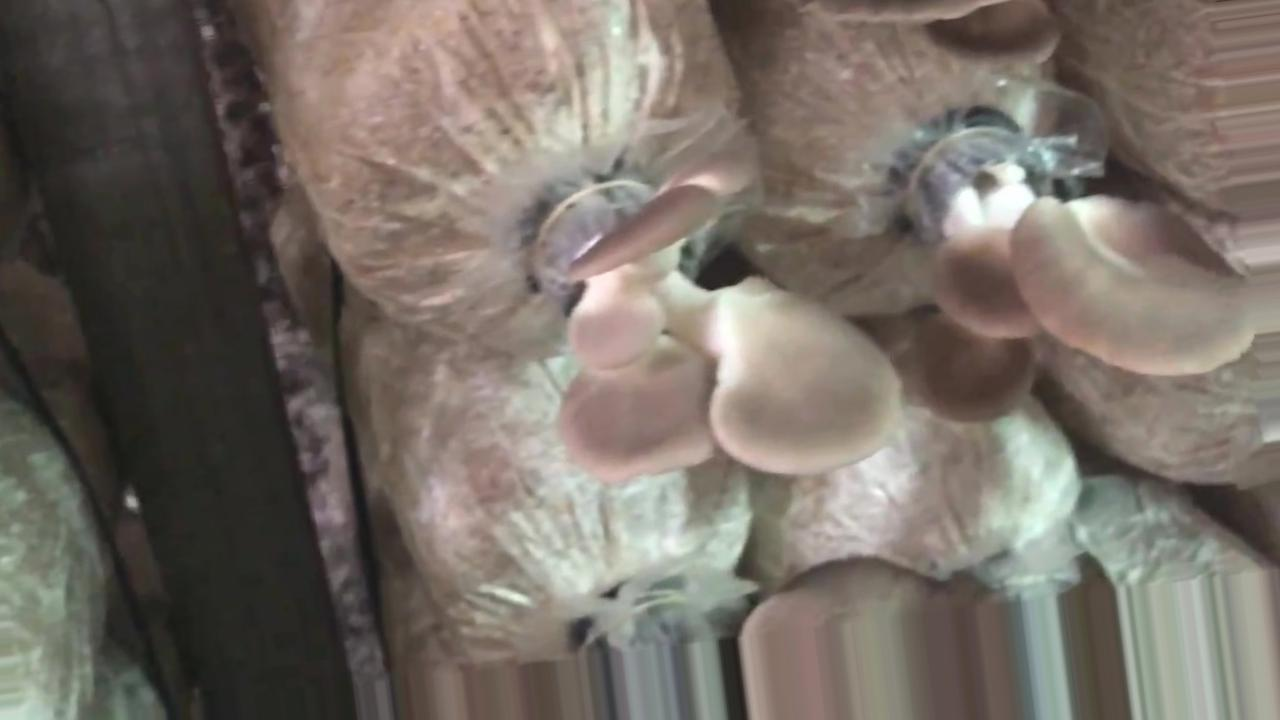nam: (549, 158, 903, 489), (906, 110, 1259, 425)
